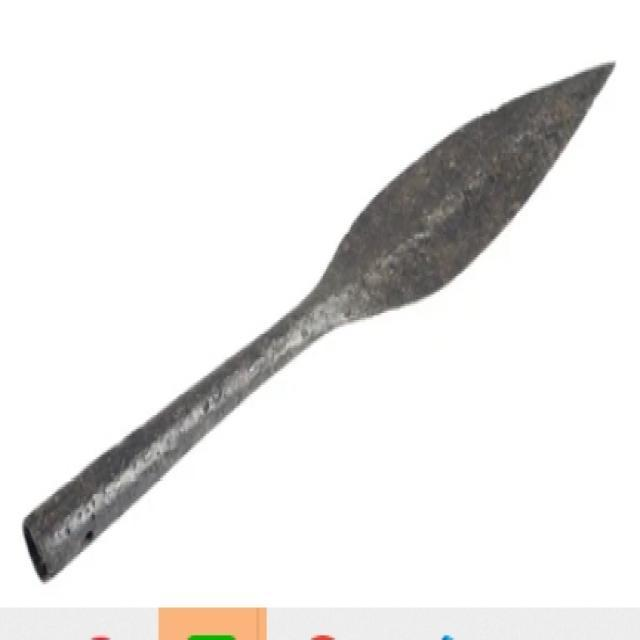spear: (20, 38, 622, 601)
